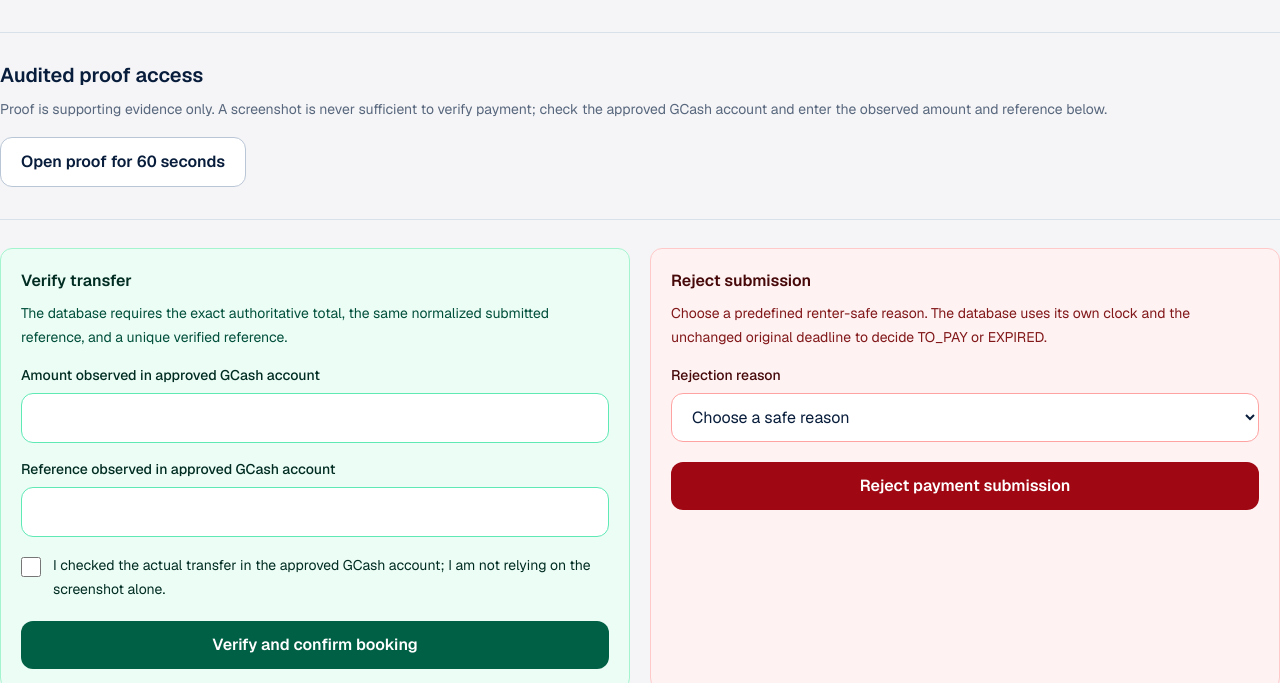
Test: keeps observed transfer details when opening proof loses its response
The width and height of the screenshot is (1280, 683).
Step 1. Type "6000" into the field labelled "Amount observed in approved GCash account" → (315, 418), box [21, 393, 609, 443]
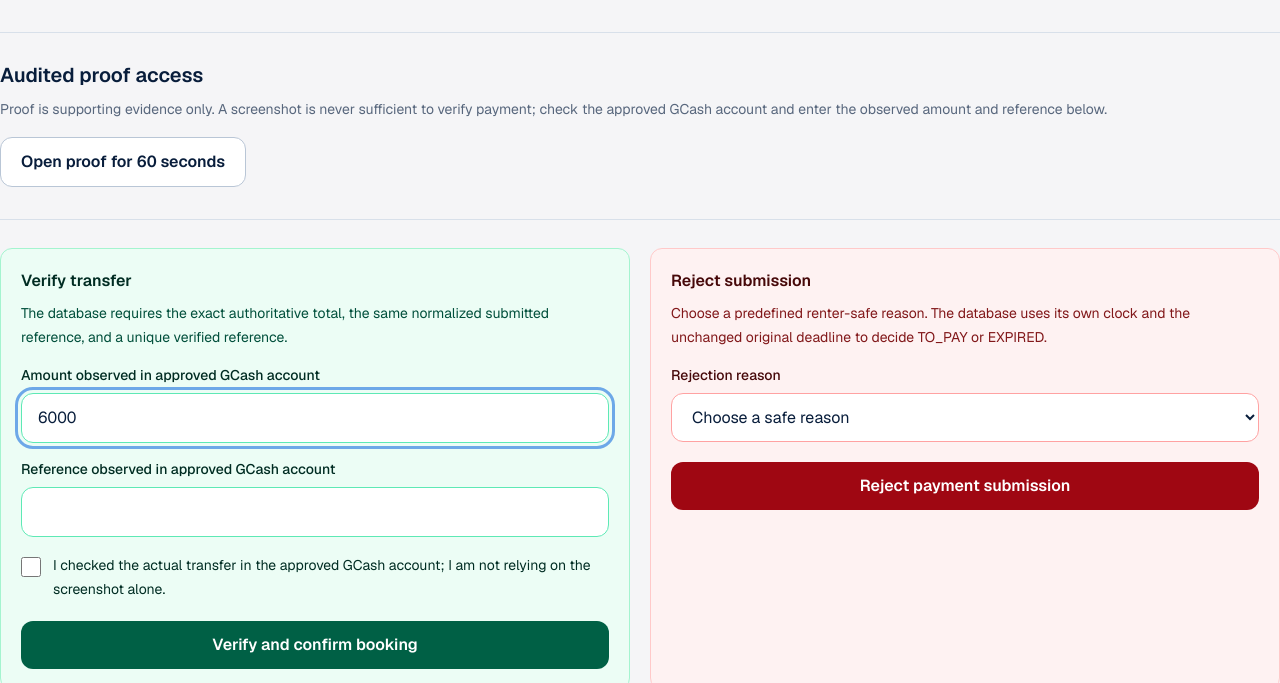
Step 2. Click the button "Open proof for 60 seconds" → (123, 162), box [0, 137, 246, 187]
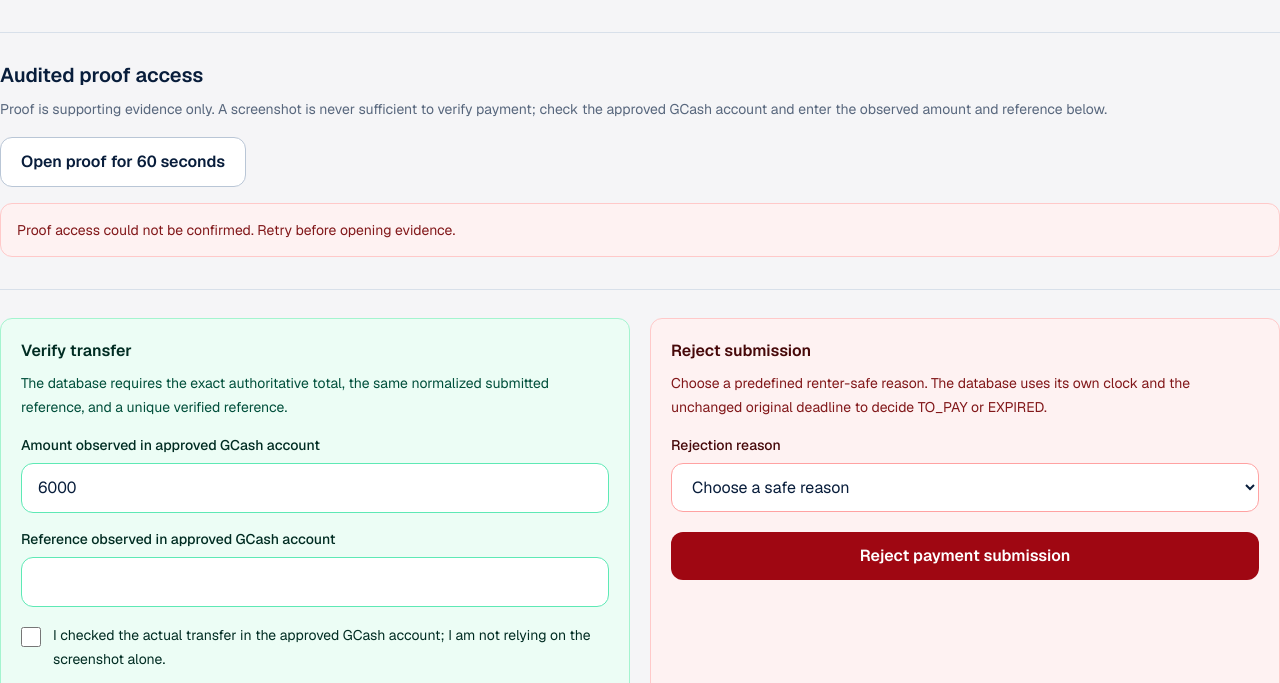
Check: the link "View private proof in a new tab" is not shown
Check: the text "Proof access could not be confirmed. Retry before opening evidence." is shown, box [0, 203, 1279, 257]
Step 3. Click the button "Open proof for 60 seconds" → (123, 162), box [0, 137, 246, 187]
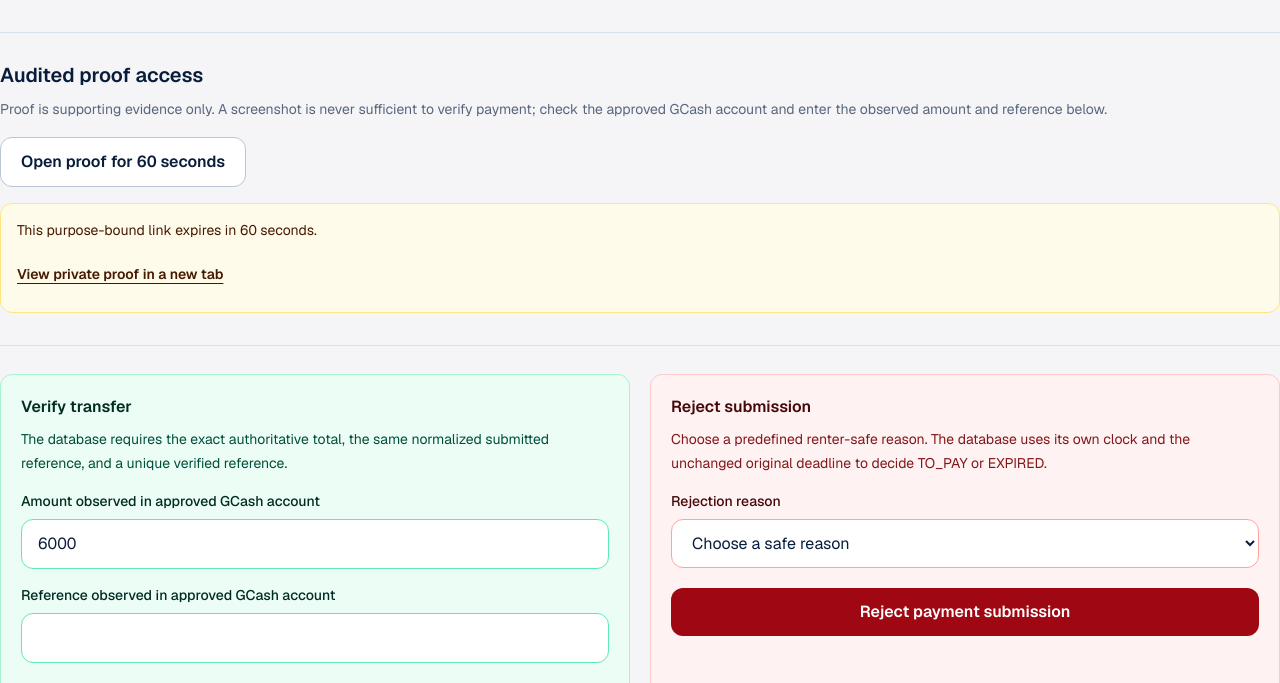
Check: the link "View private proof in a new tab" is shown, box [17, 265, 223, 283]
